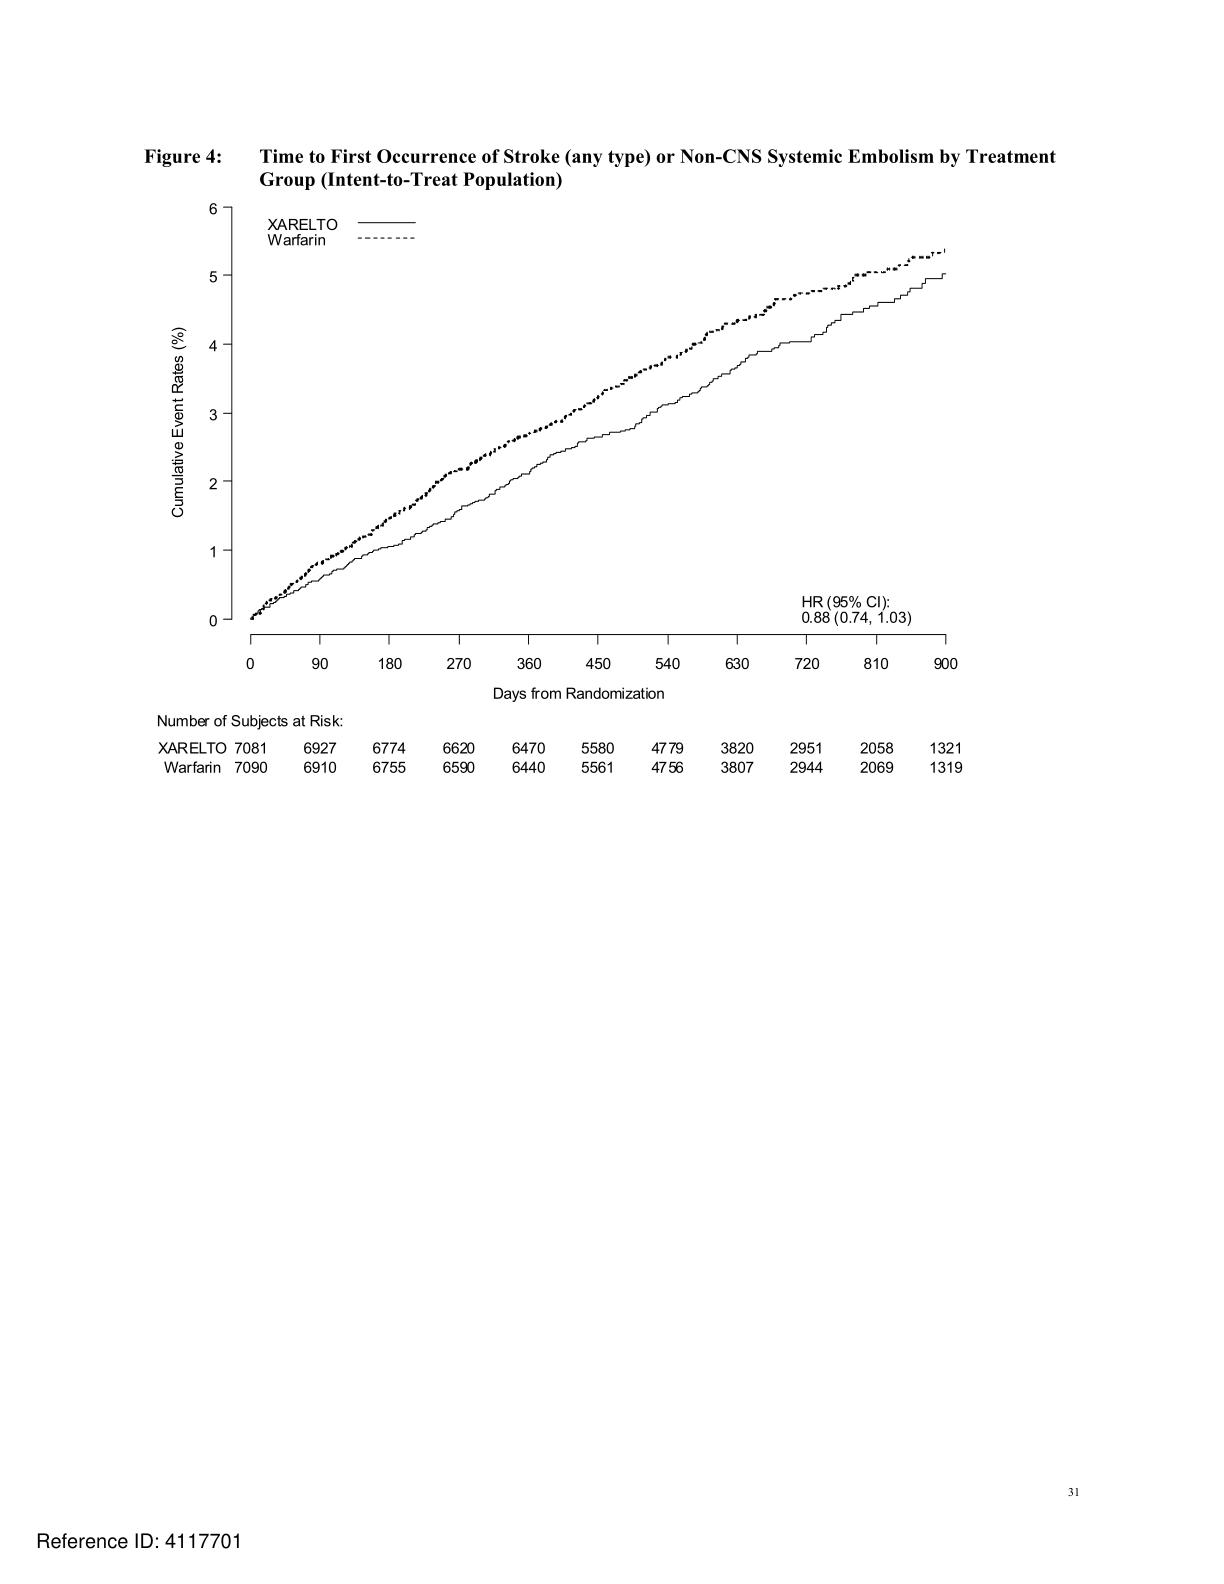nolines: (154, 735, 969, 777)
